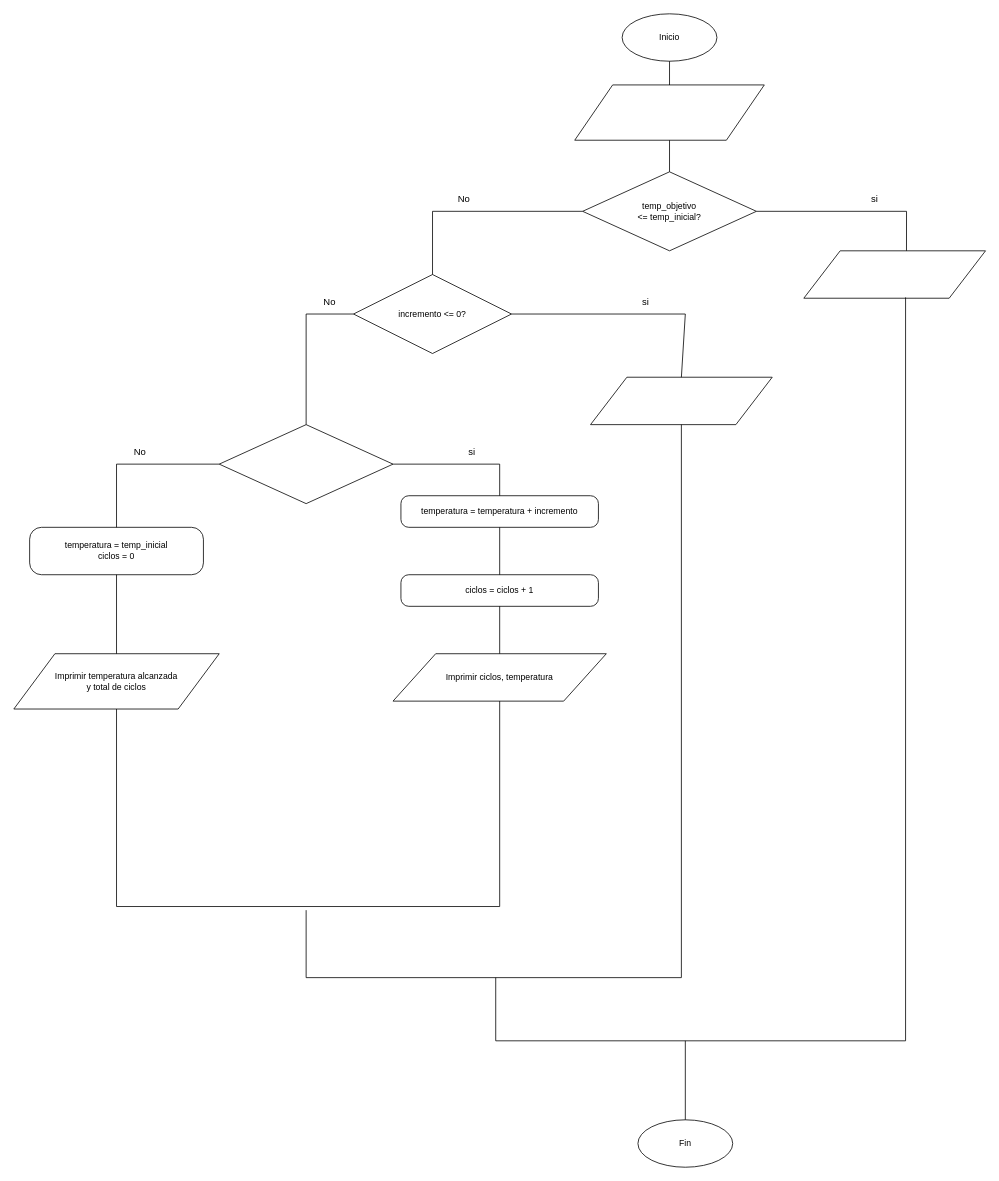
Some shapes in this 999 by 1181 pixel diagram are drawn without their labels. The centre of each missing label's shape, as x and y in pixels:
Imprimir "Error: el incremento debe ser estrictamente positivo": point 681,400
Imprimir "Error: el objetivo debe ser mayor que la temp. inicial": point 894,274
Leer temp_inicial, temp_objetivo, incremento: point 669,112
temperatura < temp_objetivo?: point 305,464
